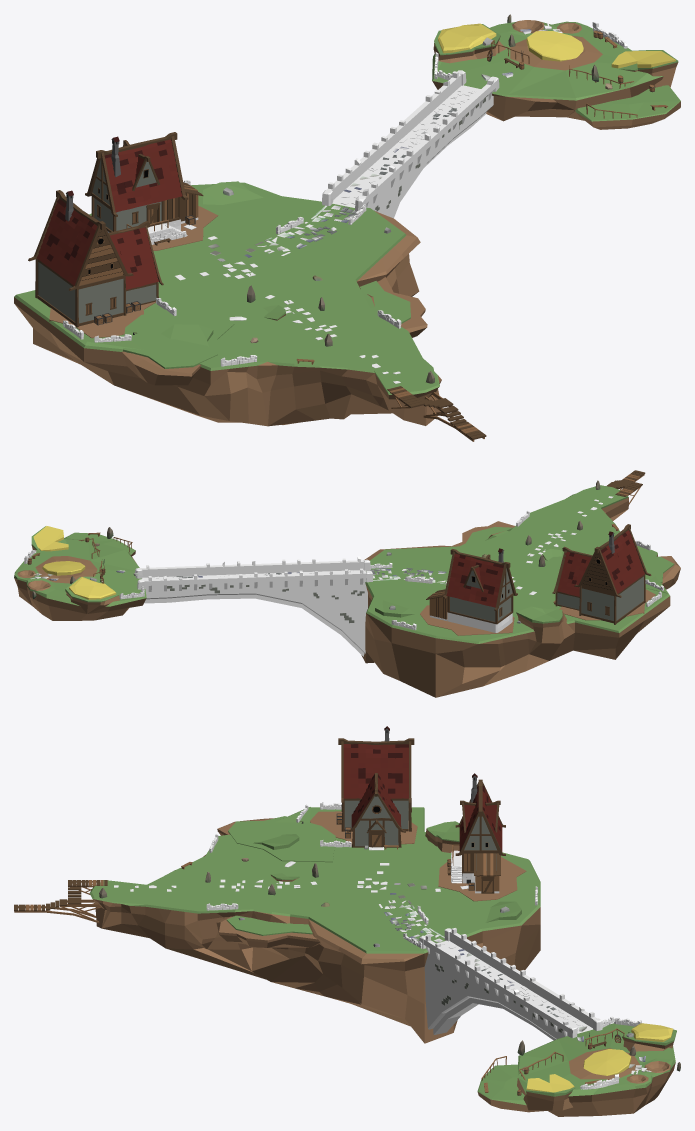
The model's file is SM_00initial Houses.fbx.
3 views of the same model, one above another, from view 1: azimuth 30°, elevation 25°; view 2: azimuth 150°, elevation 25°; view 3: azimuth 270°, elevation 25° (orthographic). The views are drawn at different scales.
Visible parts, largest first — view 1: Island01.001, Island02.001, BRIDGE.001, house2Base.001, roof.001, roof_house02.001, house01Base.001, roof_house02B.001, STREET_stones.001, Dock.001, wheatField.005, wheatField.004 (+3 smaller); view 2: Island01.001, BRIDGE.001, Island02.001, house2Base.001, roof.001, roof_house02.001, house01Base.001, roof_house02B.001, STREET_stones.001, Ground.001, wheatField.004, wheatField.007 (+4 smaller); view 3: Island01.001, Island02.001, BRIDGE.001, roof_house02.001, house2Base.001, Dock.001, STREET_stones.001, roof.001, Ground.001, house01Base.001, roof_house02B.001, house01Shed.001 (+4 smaller).
Part boxes in pixels (x1=…): Island01.001: x1=14, y1=181, x2=441, y2=426; Island02.001: x1=432, y1=20, x2=680, y2=129; BRIDGE.001: x1=322, y1=70, x2=499, y2=218; house2Base.001: x1=35, y1=229, x2=158, y2=327; roof.001: x1=85, y1=132, x2=188, y2=217; roof_house02.001: x1=28, y1=190, x2=133, y2=290; house01Base.001: x1=91, y1=158, x2=181, y2=232; roof_house02B.001: x1=108, y1=221, x2=163, y2=289; STREET_stones.001: x1=175, y1=205, x2=400, y2=383; Dock.001: x1=387, y1=386, x2=486, y2=441; wheatField.005: x1=526, y1=31, x2=583, y2=61; wheatField.004: x1=438, y1=23, x2=496, y2=53; Island01.001: x1=361, y1=485, x2=680, y2=697; BRIDGE.001: x1=135, y1=556, x2=372, y2=656; Island02.001: x1=14, y1=526, x2=146, y2=620; house2Base.001: x1=555, y1=553, x2=645, y2=624; roof.001: x1=443, y1=548, x2=517, y2=610; roof_house02.001: x1=574, y1=524, x2=651, y2=597; house01Base.001: x1=447, y1=568, x2=513, y2=632; roof_house02B.001: x1=552, y1=546, x2=592, y2=596; STREET_stones.001: x1=369, y1=496, x2=613, y2=595; Ground.001: x1=420, y1=605, x2=514, y2=635; wheatField.004: x1=69, y1=577, x2=116, y2=599; wheatField.007: x1=33, y1=526, x2=68, y2=551; Island01.001: x1=89, y1=807, x2=540, y2=1043; Island02.001: x1=477, y1=1023, x2=676, y2=1116; BRIDGE.001: x1=419, y1=928, x2=602, y2=1040; roof_house02.001: x1=338, y1=726, x2=414, y2=802; house2Base.001: x1=341, y1=796, x2=411, y2=847; Dock.001: x1=14, y1=880, x2=107, y2=923; STREET_stones.001: x1=114, y1=847, x2=468, y2=942; roof.001: x1=455, y1=773, x2=505, y2=855; Ground.001: x1=438, y1=857, x2=526, y2=901; house01Base.001: x1=462, y1=816, x2=498, y2=883; roof_house02B.001: x1=346, y1=773, x2=405, y2=832; house01Shed.001: x1=474, y1=853, x2=500, y2=893.
Size of the model in its own units: 7526 by 2246 by 7194.
